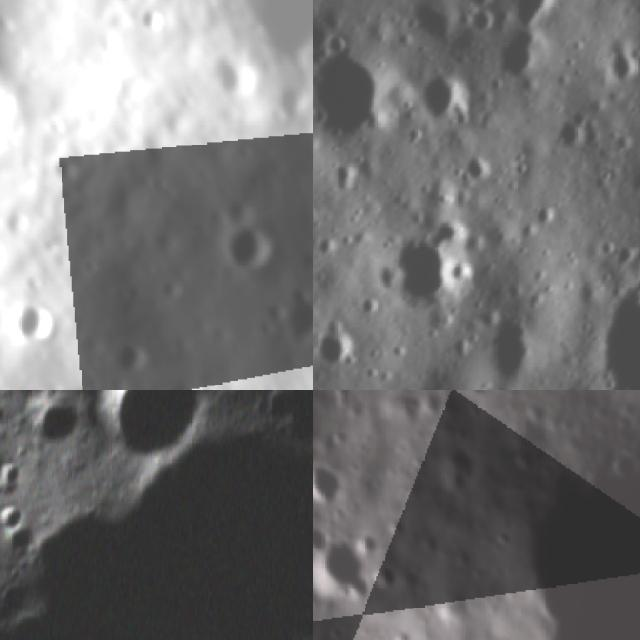crater: (0, 390, 313, 640), (64, 390, 235, 495), (313, 28, 405, 159), (573, 263, 640, 390), (378, 225, 469, 318), (207, 0, 313, 79), (470, 300, 551, 390), (5, 390, 87, 462), (406, 65, 476, 133), (313, 534, 372, 611), (214, 214, 283, 276), (0, 33, 32, 164), (267, 265, 313, 354), (486, 24, 548, 88), (0, 293, 63, 352), (547, 104, 604, 163), (313, 315, 362, 374), (596, 29, 640, 94), (201, 46, 249, 104), (505, 0, 570, 35), (108, 333, 156, 380), (313, 452, 348, 512), (124, 0, 172, 43), (452, 147, 494, 190), (0, 452, 29, 506), (0, 491, 28, 538), (155, 369, 209, 390), (313, 520, 329, 554)
